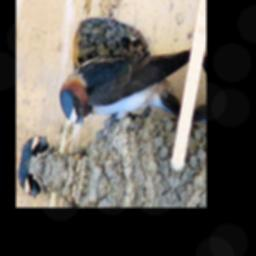Swallow: (54, 6, 192, 154)
